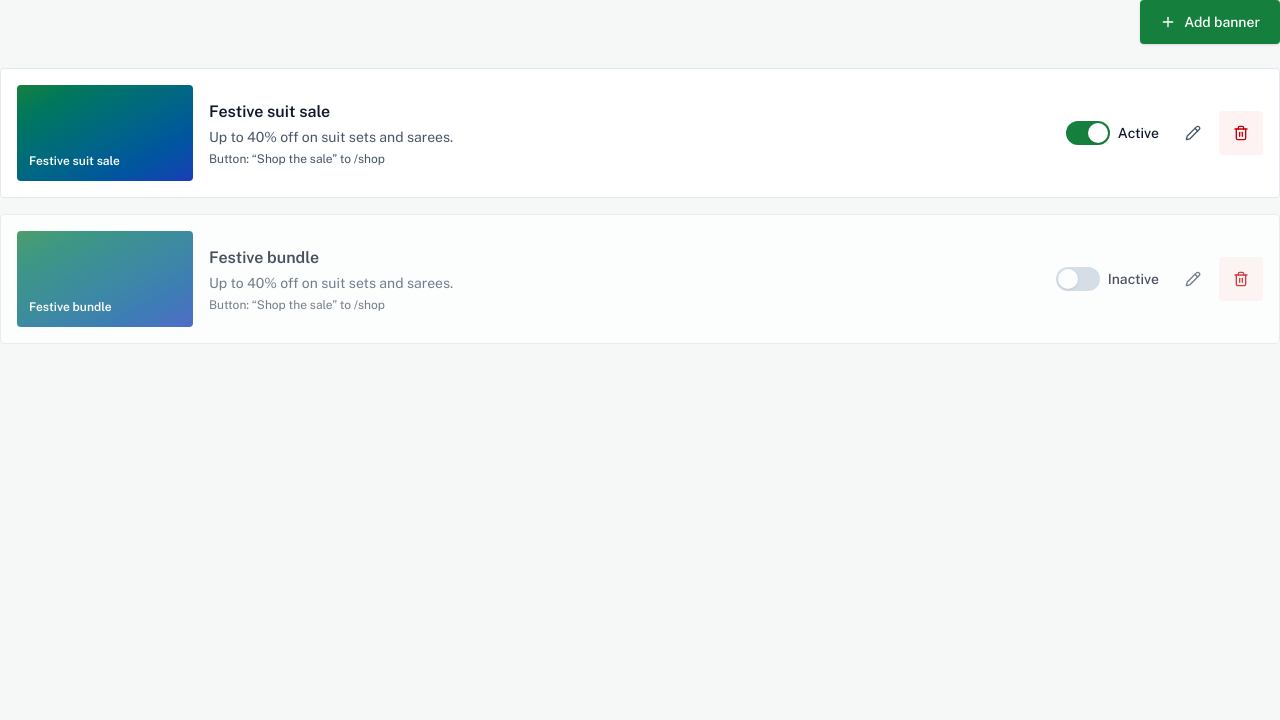
Test: <BannerAdmin /> › deletes after confirmation
Click the button named "Delete Festive suit sale": (1241, 133) x1=1219 y1=111 x2=1263 y2=155
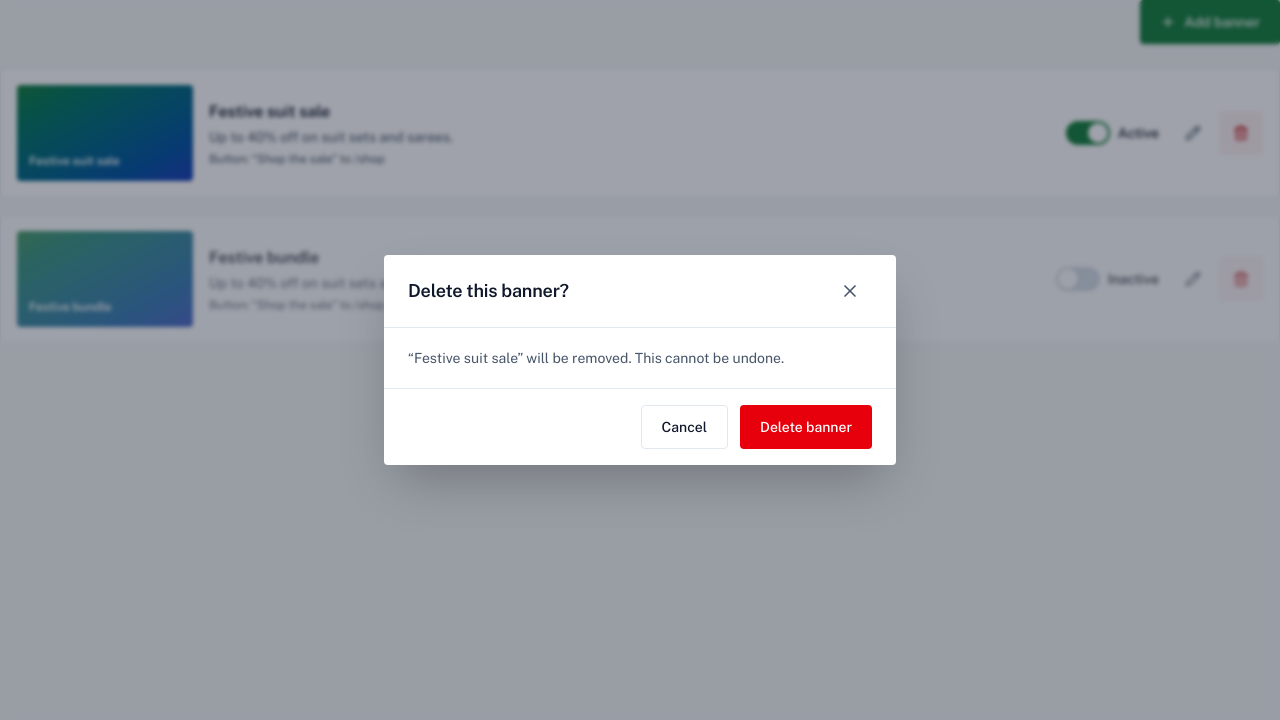
Click the button "Delete banner": (806, 427) x1=740 y1=405 x2=872 y2=449
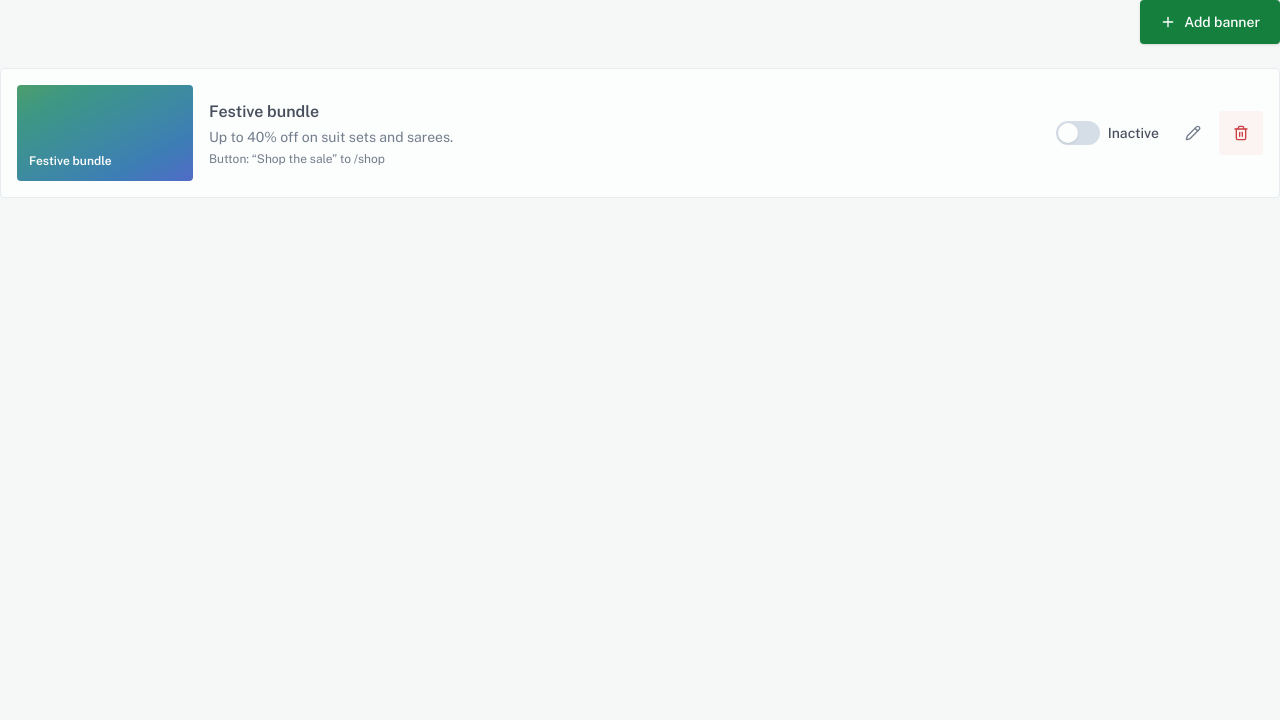
Expected: the 2nd text "Festive bundle" is shown, x1=29 y1=154 x2=112 y2=168
Expected: the text "Festive suit sale" is not shown
